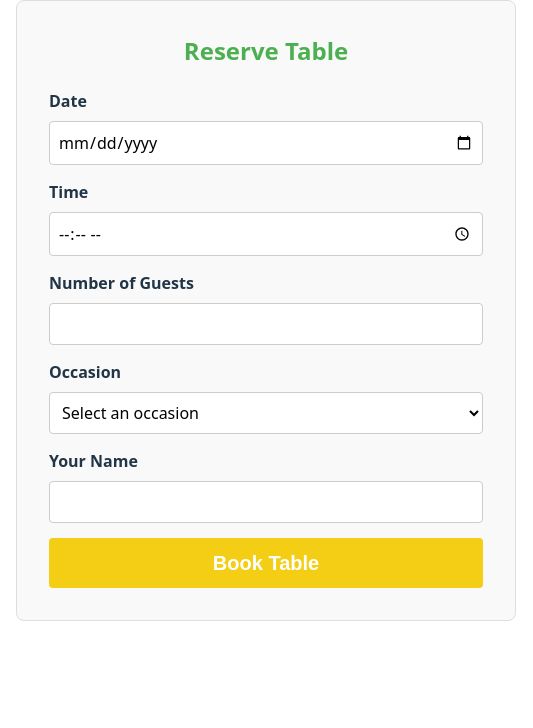
Test: BookingForm › displays validation errors when required fields are empty
Click the button "Book Table": [266, 563] box [49,538,483,588]
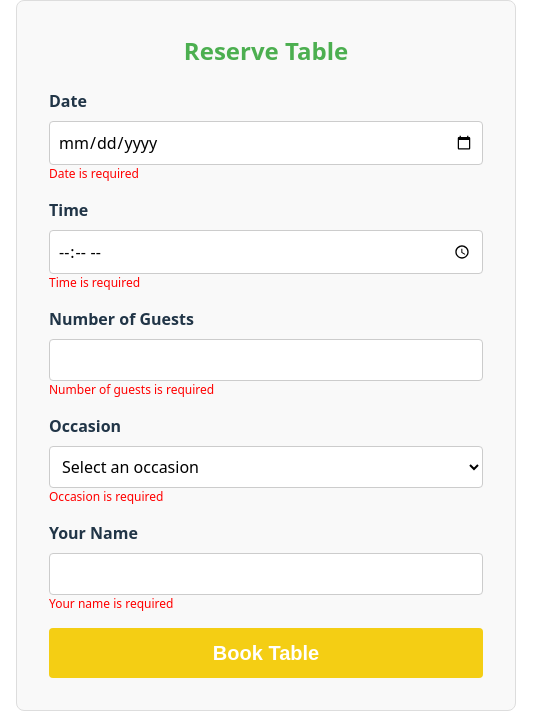
Expected: the text "Date is required" is shown, [49,165,139,182]
Expected: the text "Time is required" is shown, [49,274,140,291]
Expected: the text "Number of guests is required" is shown, [49,381,214,398]
